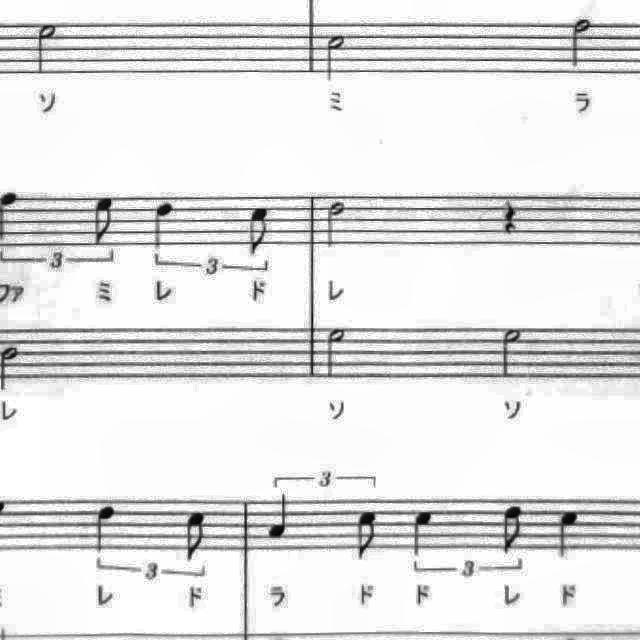Eighth-note: (494, 499, 530, 561), (242, 202, 278, 262), (180, 508, 216, 568), (350, 505, 384, 567), (89, 191, 123, 249)
Half-note: (495, 321, 533, 383), (564, 10, 600, 74), (319, 322, 353, 384), (30, 17, 64, 79), (318, 29, 354, 87), (321, 196, 351, 252)
Quarter-note: (550, 503, 586, 565), (146, 194, 182, 254), (88, 498, 124, 558), (408, 504, 440, 560), (264, 490, 296, 546)
Quarter-rest: (495, 192, 527, 240)
